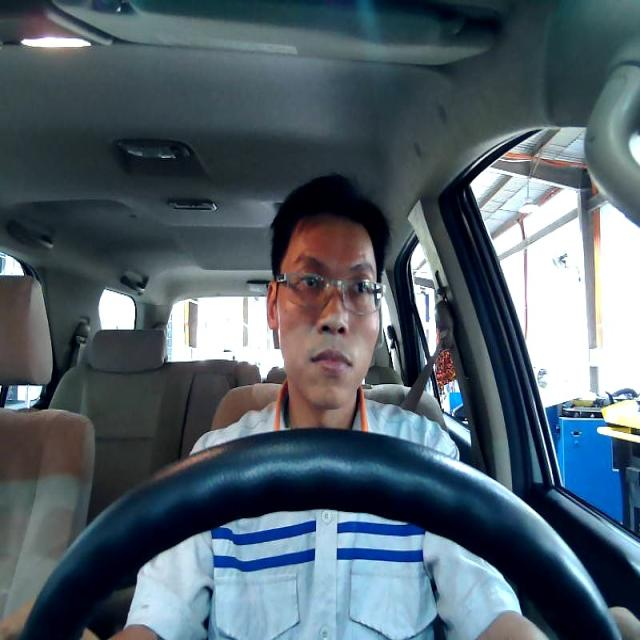focused: (264, 214, 381, 410)
